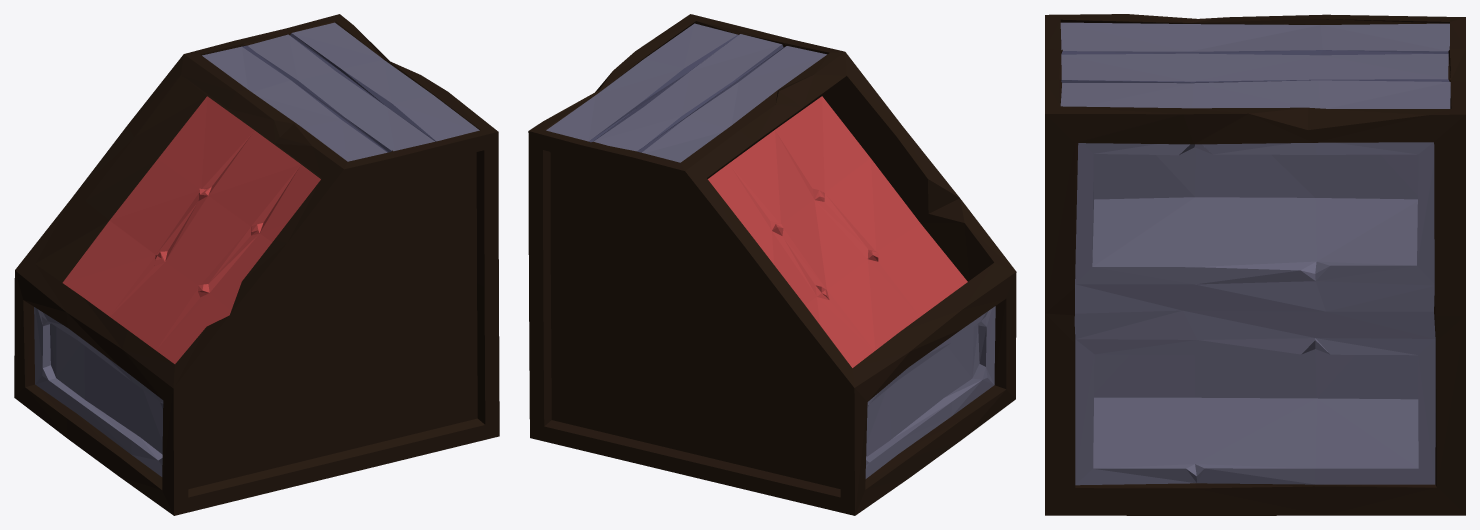
File: SFFA_Table_Modular_001.fbx
3 renders of one model, left to right at view 1: azimuth 30°, elevation 25°; view 2: azimuth 150°, elevation 25°; view 3: azimuth 270°, elevation 25°, orthographic. The views are drawn at different scales.
Visible parts, largest first — view 1: SFFA_Table_Modular_001; view 2: SFFA_Table_Modular_001; view 3: SFFA_Table_Modular_001.
Boxes of the visible parts, x1=… form: SFFA_Table_Modular_001: x1=14, y1=14, x2=499, y2=515; SFFA_Table_Modular_001: x1=528, y1=14, x2=1016, y2=515; SFFA_Table_Modular_001: x1=1045, y1=14, x2=1465, y2=515.
Size of the model in its own units: 118 by 106 by 99.87.
